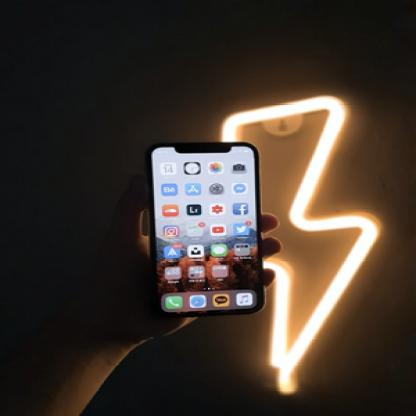cell-phone: (134, 131, 294, 320)
